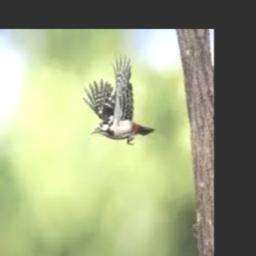Woodpecker: (82, 51, 154, 145)
